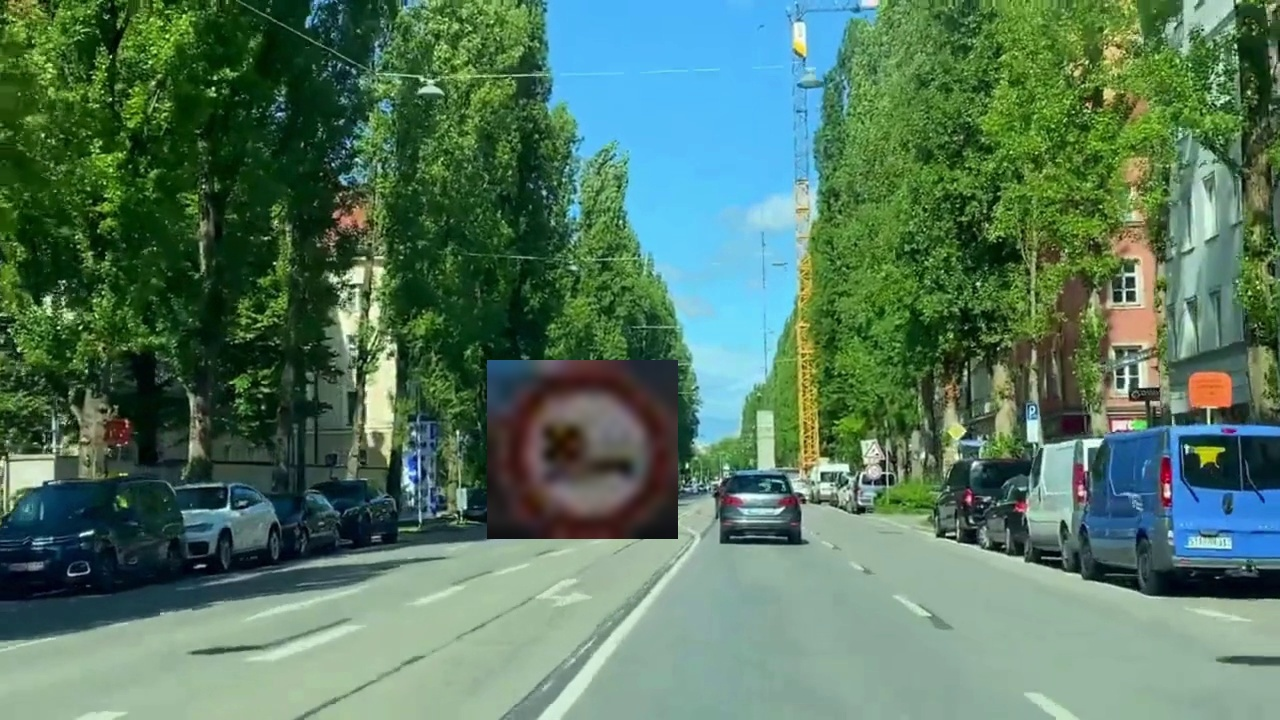No pass >3.5t: (487, 360, 678, 539)
